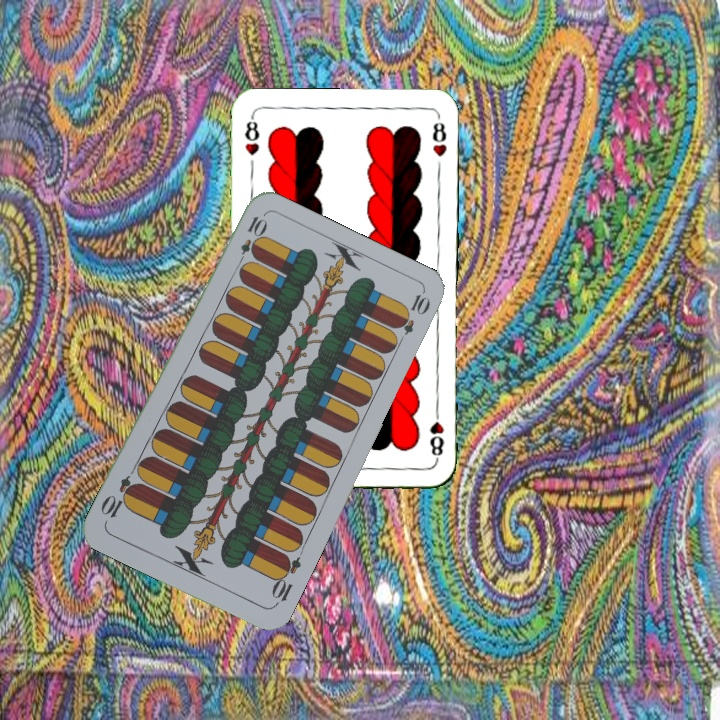E10: (267, 550, 304, 609), (233, 212, 268, 269)
H8: (426, 404, 447, 463), (240, 113, 262, 158)
